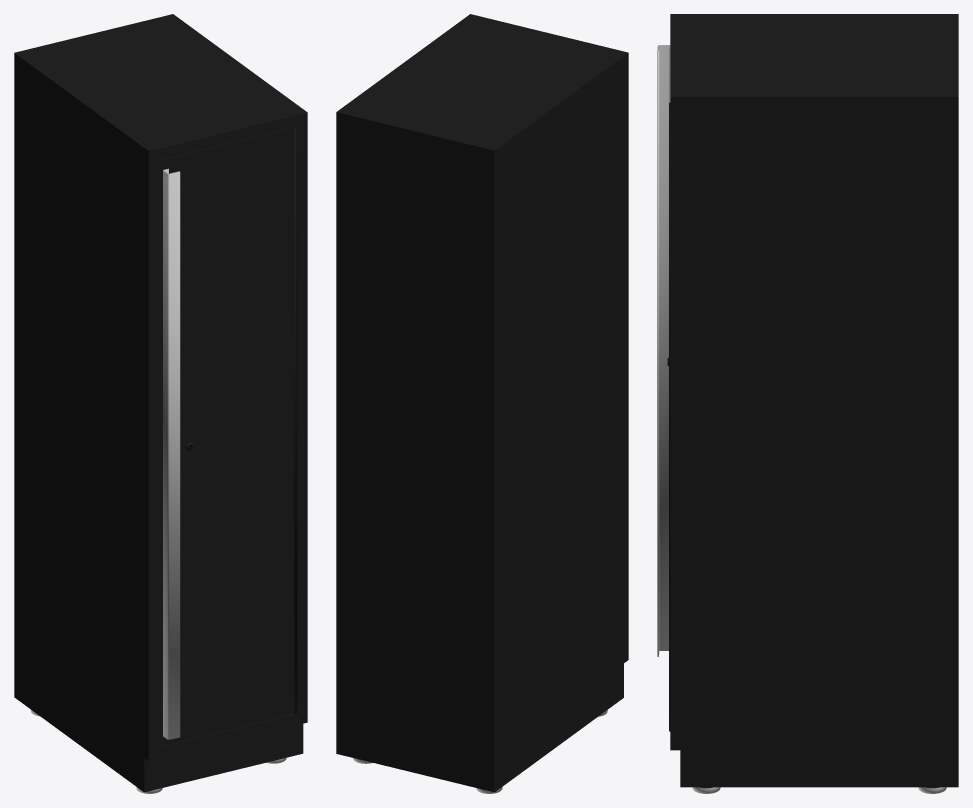
Rendered from pantryLeftDoor.glb.
3 views of the same model, side by side, from view 1: azimuth 30°, elevation 25°; view 2: azimuth 150°, elevation 25°; view 3: azimuth 270°, elevation 25° (orthographic). The views are drawn at different scales.
Visible parts, largest first — view 1: shellFp, doors, handlesFP, hinge; view 2: shellFp; view 3: shellFp, handlesFP, hinge.
Boxes of the visible parts, bbox=[...] form: shellFp: bbox=[14, 14, 307, 792]; doors: bbox=[158, 127, 293, 746]; handlesFP: bbox=[163, 168, 180, 739]; hinge: bbox=[293, 127, 296, 714]; shellFp: bbox=[336, 14, 628, 792]; shellFp: bbox=[670, 14, 958, 788]; handlesFP: bbox=[657, 45, 670, 656]; hinge: bbox=[669, 102, 670, 731].
Size of the model in its own units: 0.381 by 1.5 by 0.5842.
Materials: 4 (1 with a texture image).
